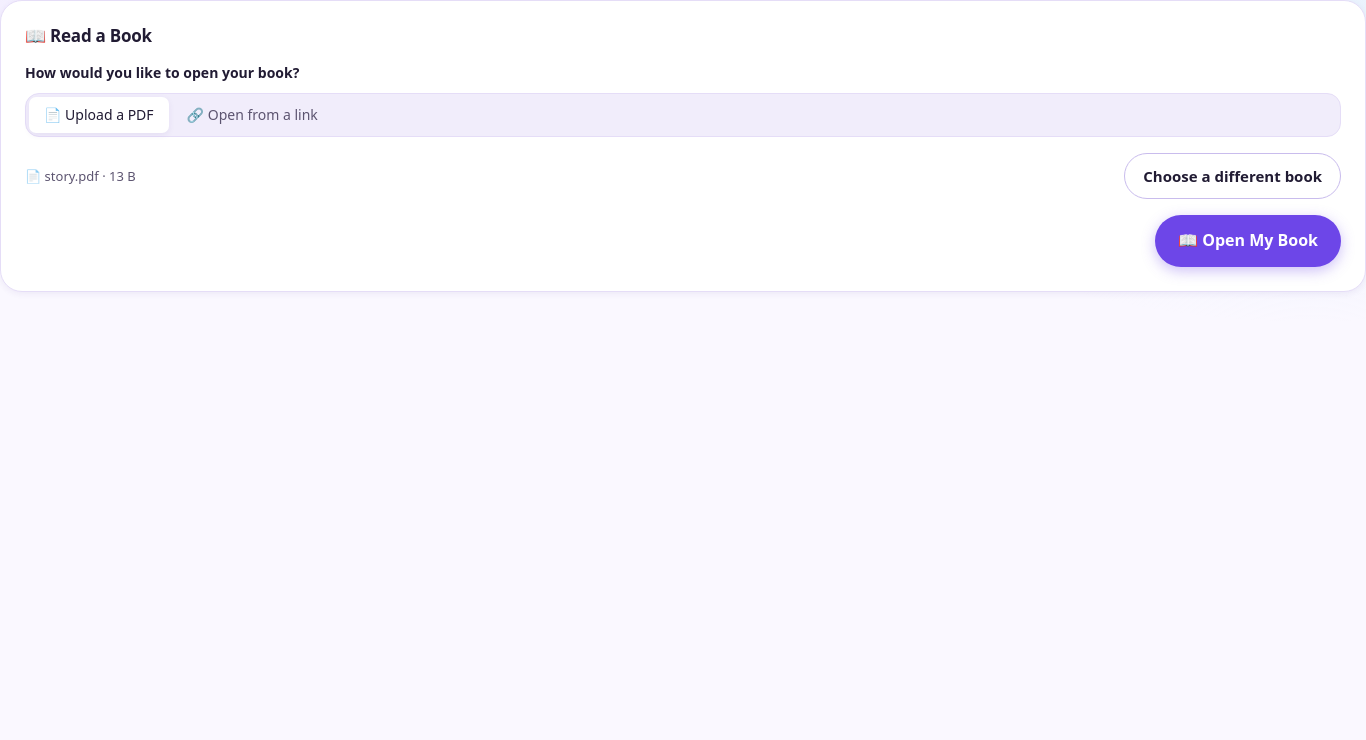
Test case: BookReaderForm › offers a Pages range for a PDF with page numbers
Earlier steps of the test are not shown.
Step 1. Click the button with test id "load-book-submit" → [1248, 241], box [1155, 215, 1341, 267]
(page scrolled)
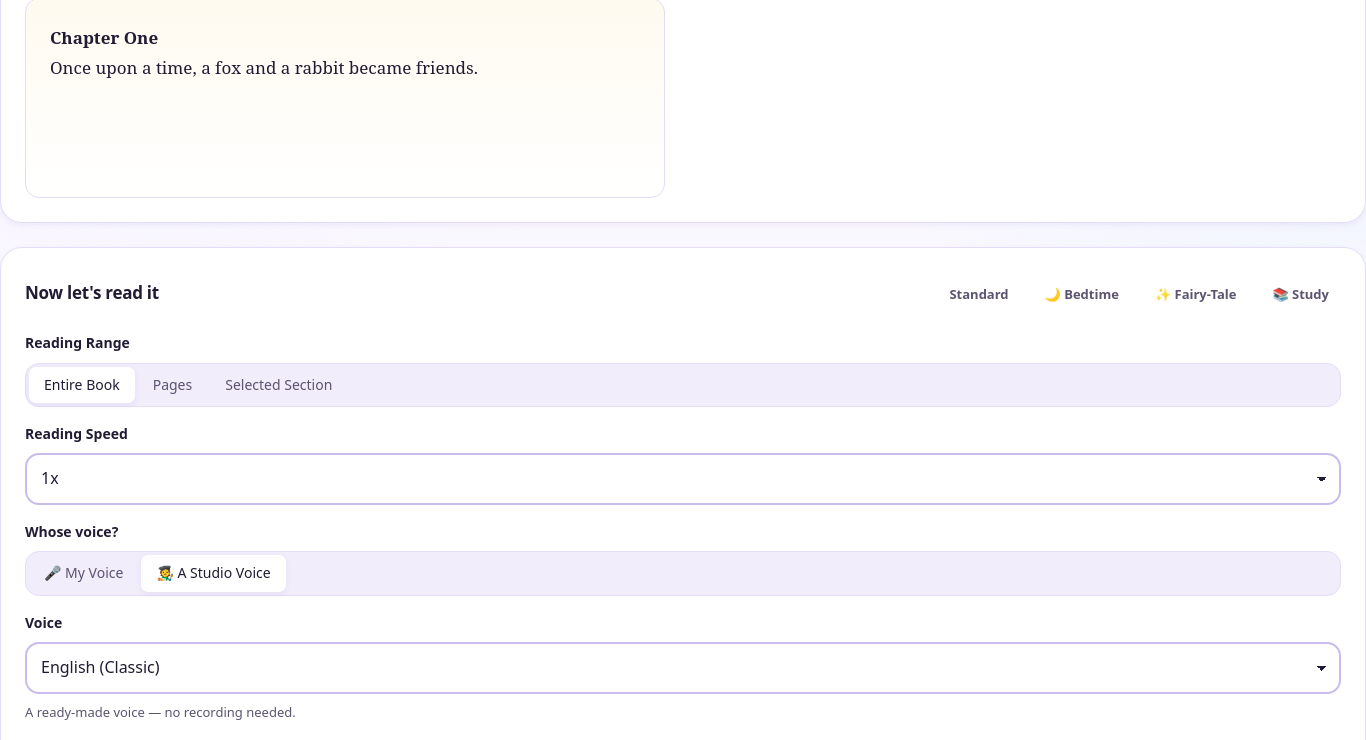
Check: the button with test id "reading-range-pages" is shown
Step 2. Click the button with test id "reading-range-pages" → [172, 385], box [138, 366, 207, 403]
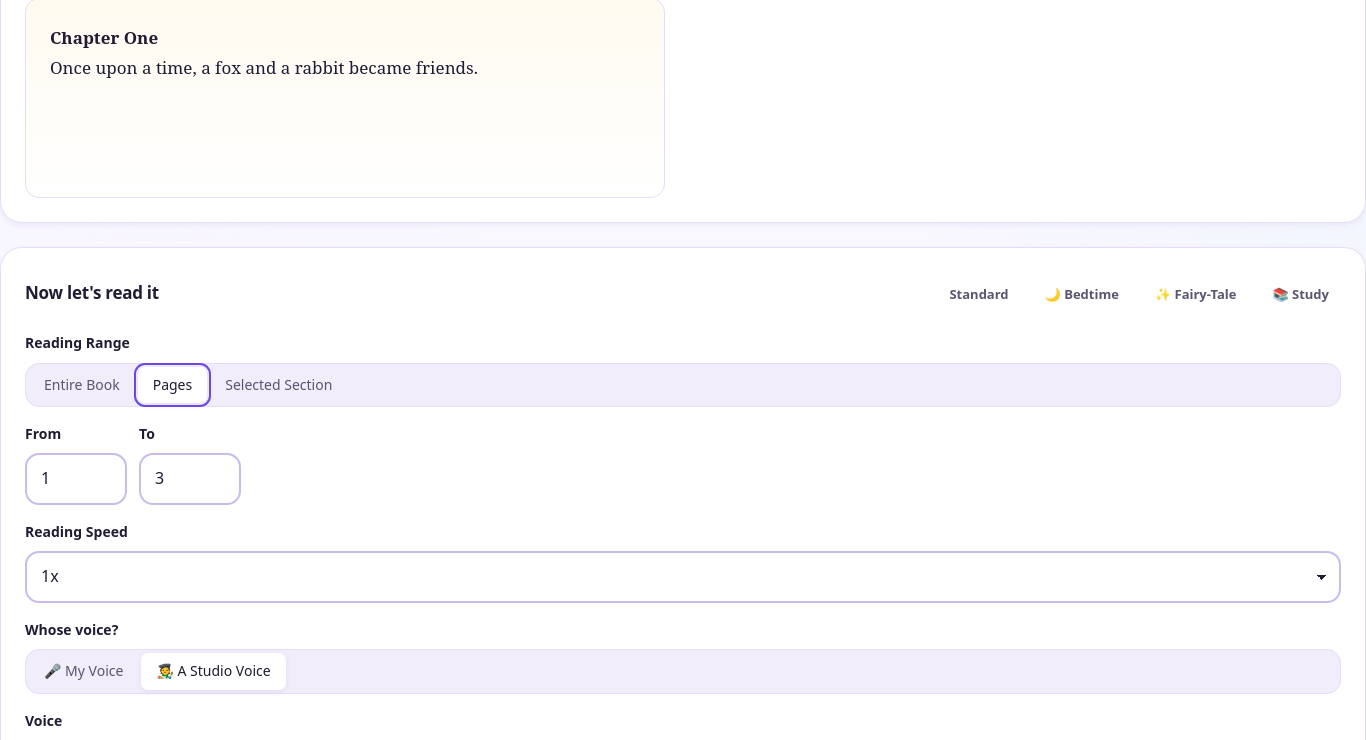
Check: the number field with test id "reading-range-from" is shown, box [25, 453, 127, 505]
Check: the number field with test id "reading-range-to" is shown, box [139, 453, 241, 505]
